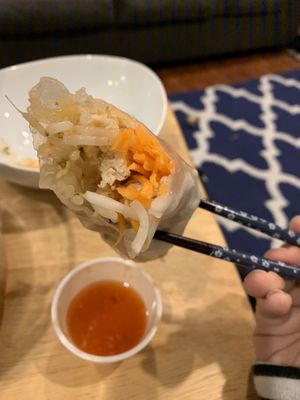sandwich: (155, 229, 300, 280)
soup: (9, 74, 188, 259)
sushi: (50, 256, 163, 365)
